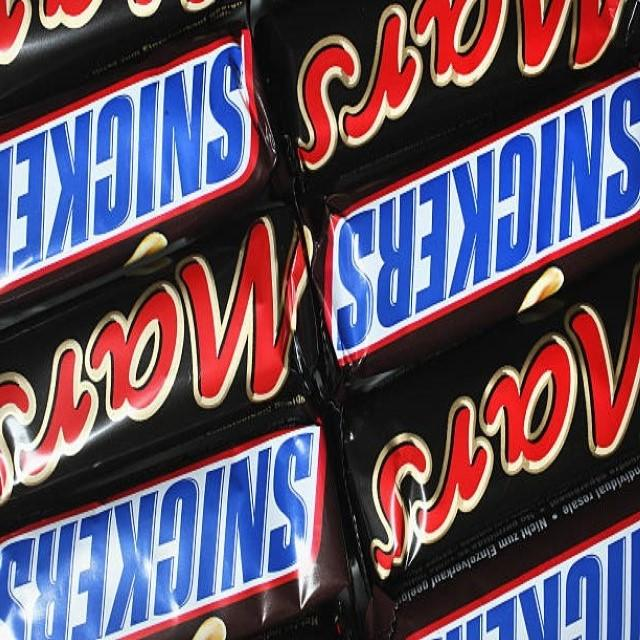mars_chocolate: (7, 197, 283, 495), (367, 285, 620, 582), (310, 0, 605, 123)
snickers_chocolate: (338, 82, 634, 358), (3, 13, 247, 272), (21, 436, 316, 640)
